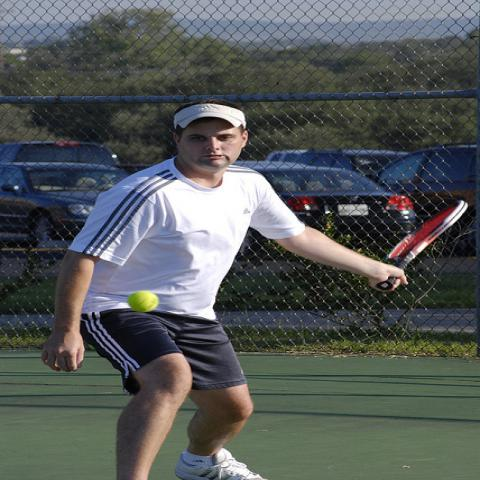car: (0, 141, 480, 260), (0, 162, 130, 248), (266, 148, 410, 178)
